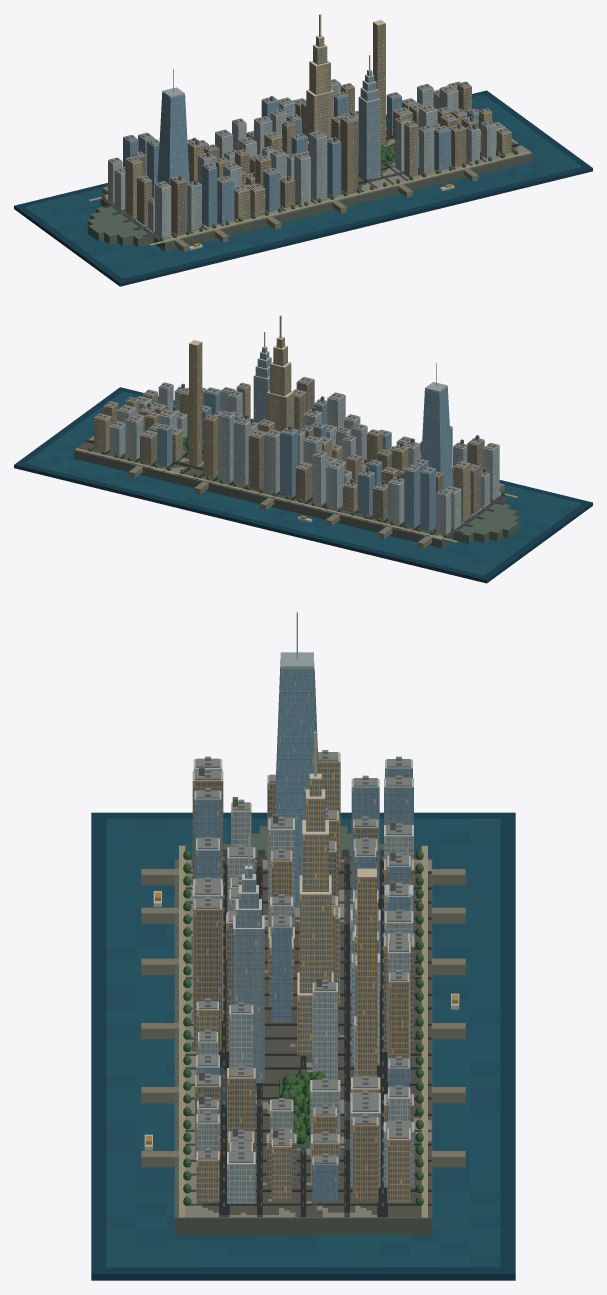
File: manhattan.glb
The picture shows the model from 3 angles, top to bottom: view 1: azimuth 30°, elevation 25°; view 2: azimuth 150°, elevation 25°; view 3: azimuth 270°, elevation 25°; orthographic projection. The views are drawn at different scales.
Parts seen in each view (by area): view 1: Manhattan - artistic, not georeferenced; view 2: Manhattan - artistic, not georeferenced; view 3: Manhattan - artistic, not georeferenced.
Part boxes in pixels (x1,y1,x2,y2): Manhattan - artistic, not georeferenced: [14, 14, 592, 286]; Manhattan - artistic, not georeferenced: [14, 315, 592, 583]; Manhattan - artistic, not georeferenced: [91, 612, 515, 1280].
Bounding box in the file's own units: 36 × 12.26 × 14.
2 materials, 1 textured.
